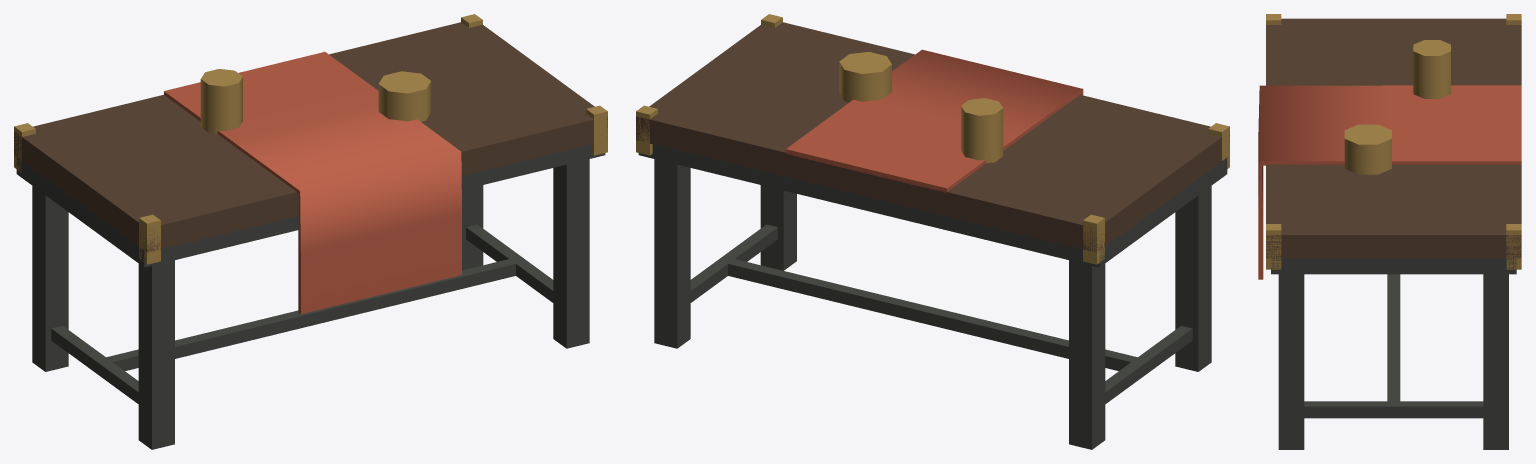
File: stall_table.glb
The picture shows the model from 3 angles, left to right: view 1: azimuth 30°, elevation 25°; view 2: azimuth 150°, elevation 25°; view 3: azimuth 270°, elevation 25°; orthographic projection. The views are drawn at different scales.
Parts seen in each view (by area): view 1: stall_table; view 2: stall_table; view 3: stall_table.
Part boxes in pixels (x1=…): stall_table: x1=14, y1=14, x2=607, y2=449; stall_table: x1=636, y1=14, x2=1229, y2=449; stall_table: x1=1258, y1=14, x2=1521, y2=449.
Size of the model in its own units: 2 by 1.15 by 1.03.
